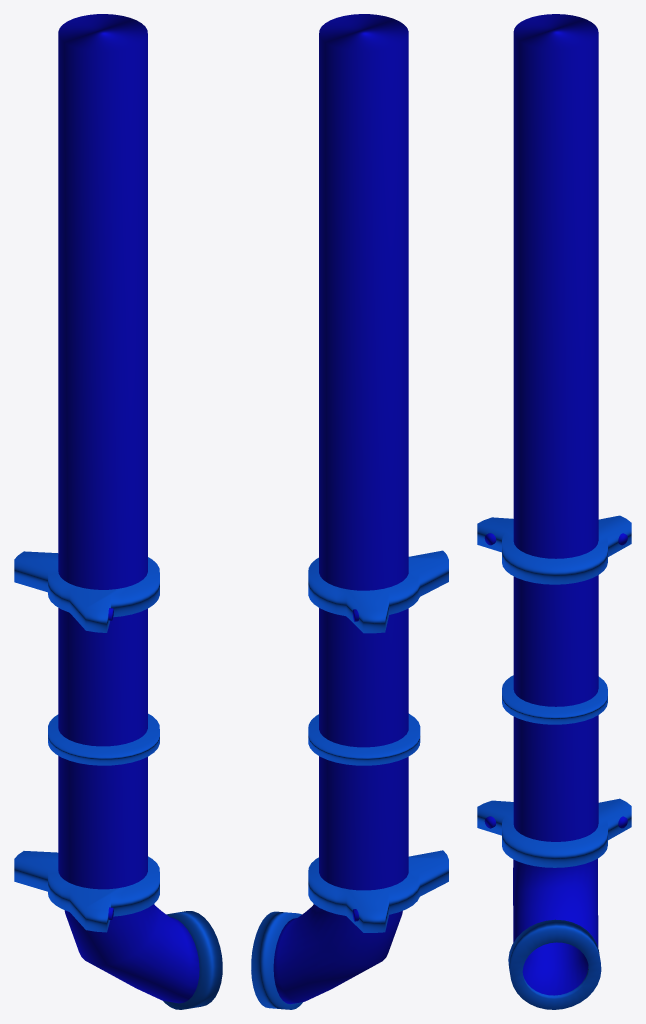
File: tubo_UVS.fbx
3 views of the same model, side by side, from view 1: azimuth 30°, elevation 25°; view 2: azimuth 150°, elevation 25°; view 3: azimuth 270°, elevation 25° (orthographic). The views are drawn at different scales.
Visible parts, largest first — view 1: Cilindro.005, Cilindro.006, Cilindro.013, Cilindro.007, Cilindro.009; view 2: Cilindro.005, Cilindro.013, Cilindro.006, Cilindro.007, Cilindro.009; view 3: Cilindro.005, Cilindro.013, Cilindro.006, Cilindro.009, Cilindro.007.
Part boxes in pixels (bbox=[...]): Cilindro.005: bbox=[58, 14, 199, 1003]; Cilindro.006: bbox=[14, 851, 159, 932]; Cilindro.013: bbox=[14, 551, 159, 632]; Cilindro.007: bbox=[48, 713, 159, 765]; Cilindro.009: bbox=[163, 911, 222, 1009]; Cilindro.005: bbox=[273, 14, 408, 1004]; Cilindro.013: bbox=[308, 550, 448, 633]; Cilindro.006: bbox=[308, 850, 448, 932]; Cilindro.007: bbox=[308, 713, 420, 765]; Cilindro.009: bbox=[251, 911, 302, 1009]; Cilindro.005: bbox=[513, 14, 598, 995]; Cilindro.013: bbox=[477, 515, 631, 584]; Cilindro.006: bbox=[477, 798, 631, 867]; Cilindro.009: bbox=[508, 919, 601, 1009]; Cilindro.007: bbox=[502, 675, 607, 724].
Size of the model in its own units: 393 by 2438 by 363.
